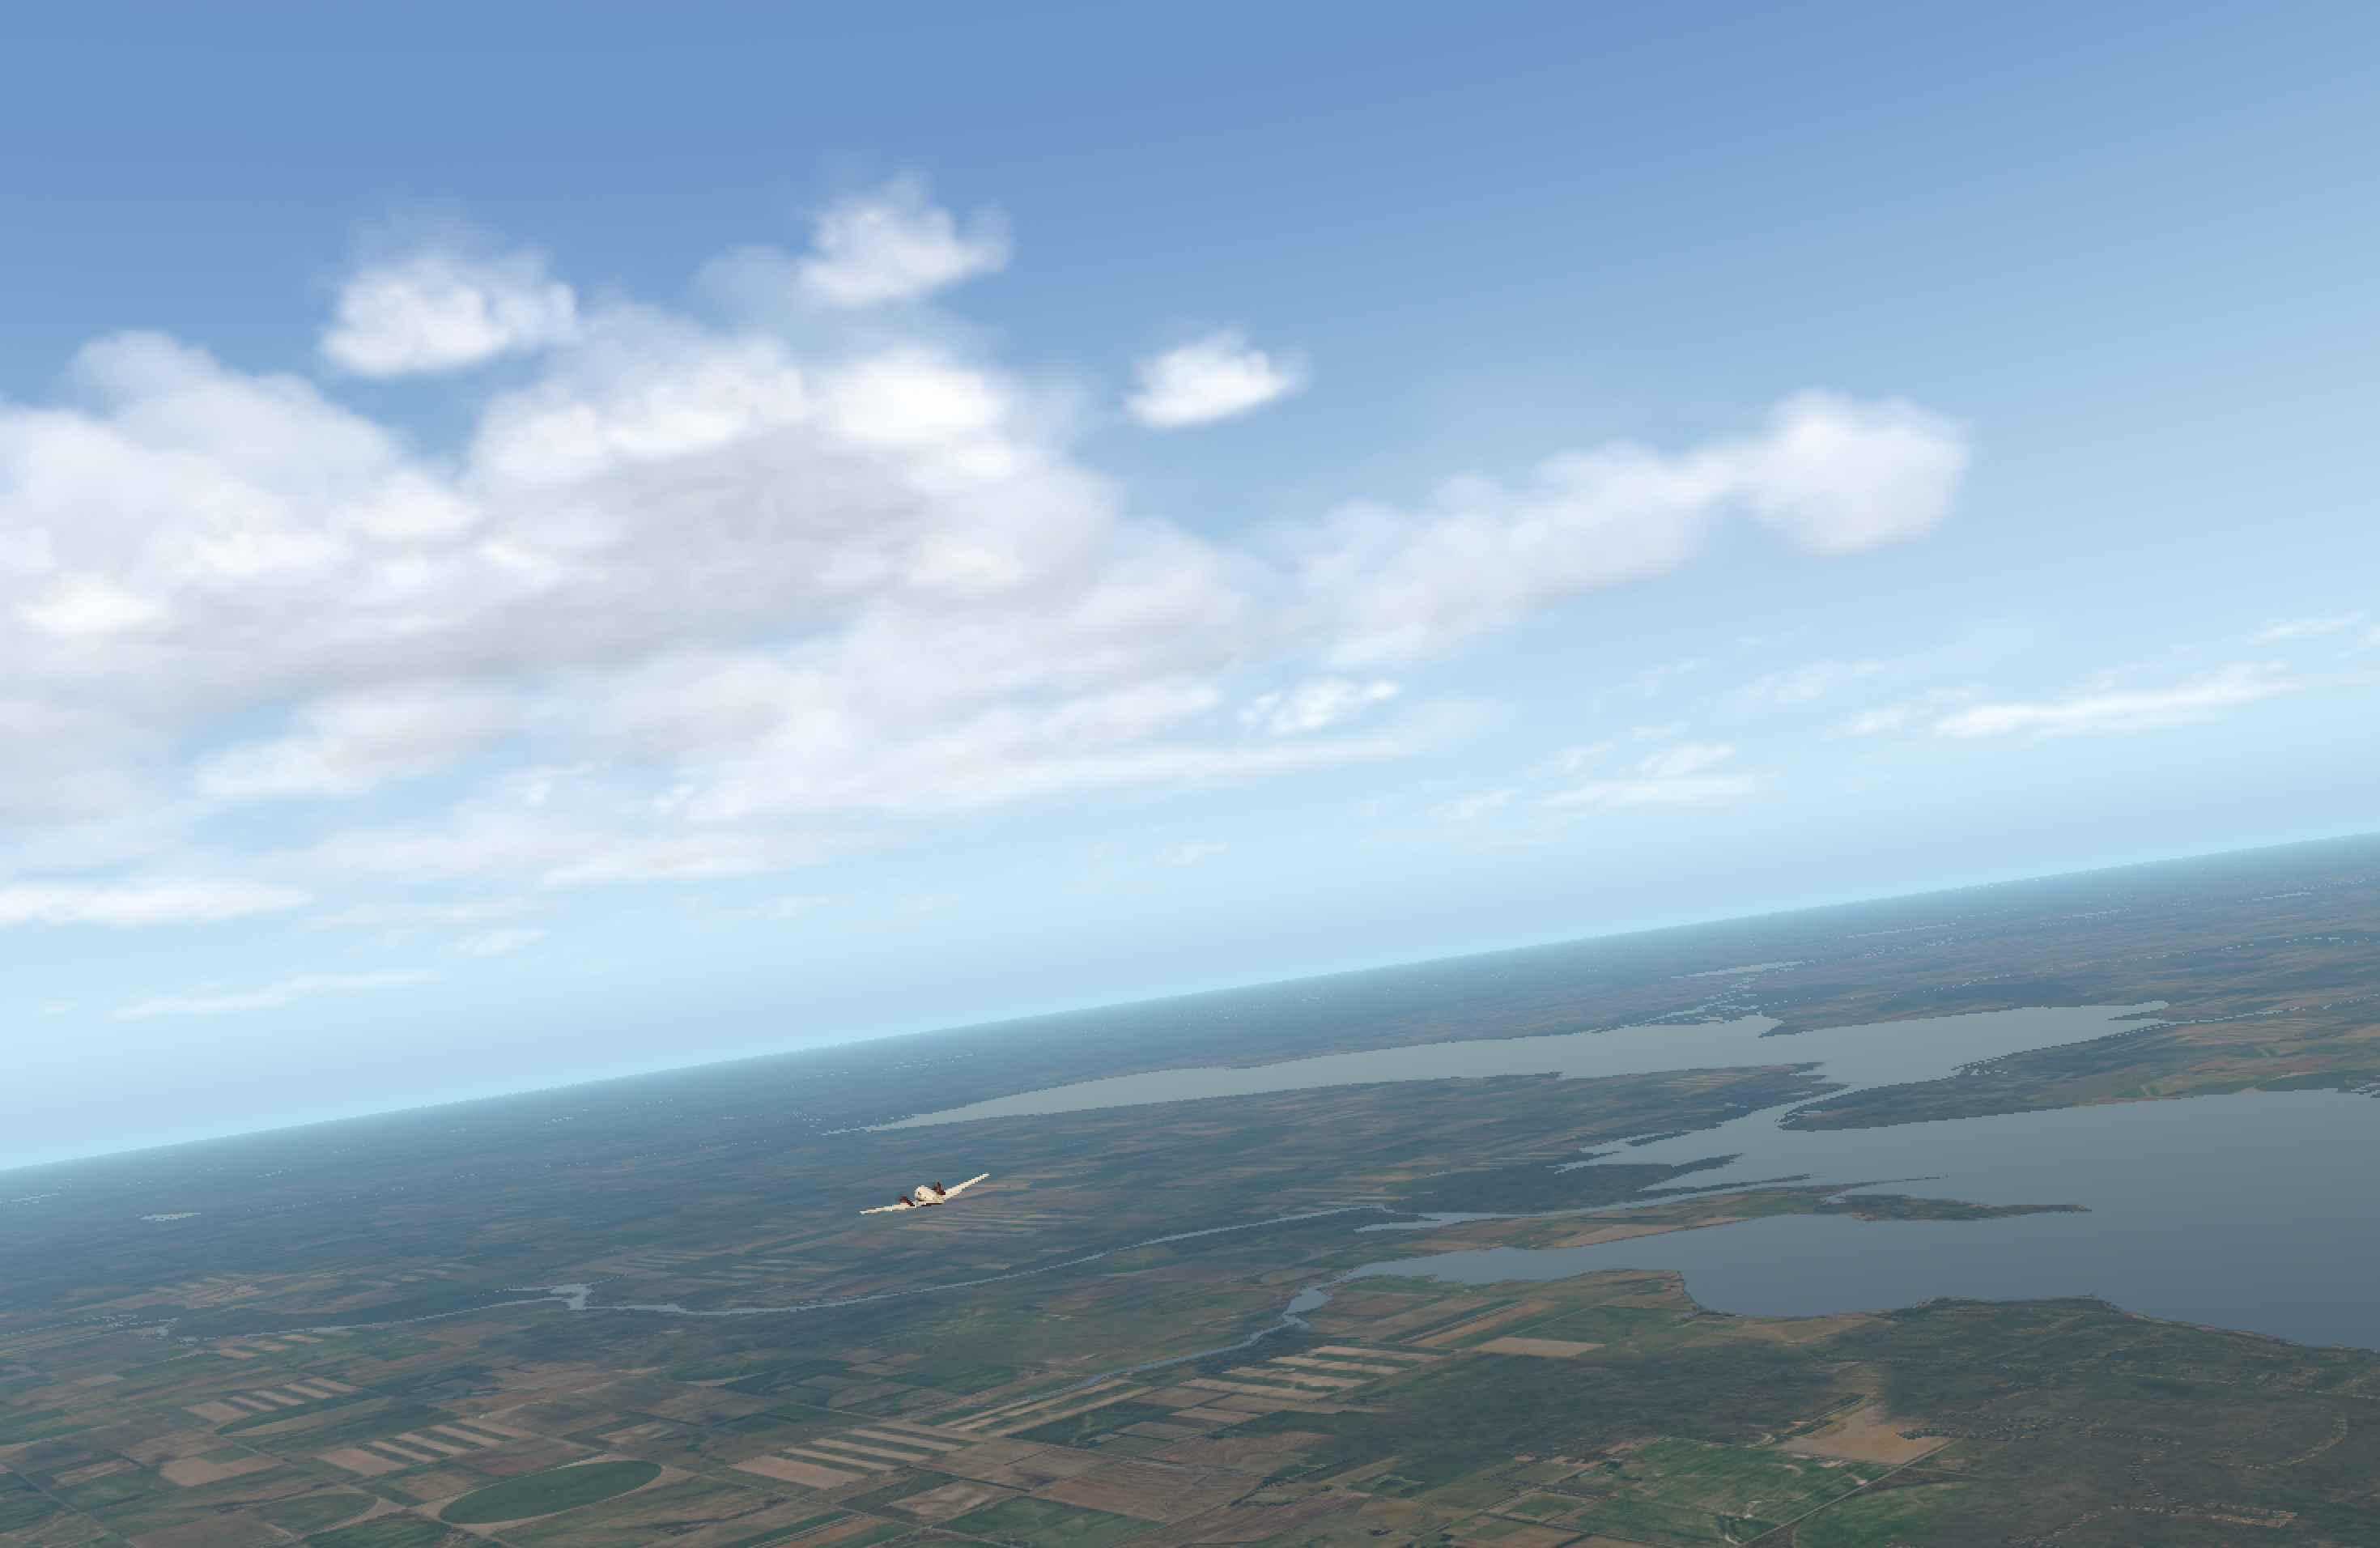aircraft: (859, 1177, 992, 1227)
